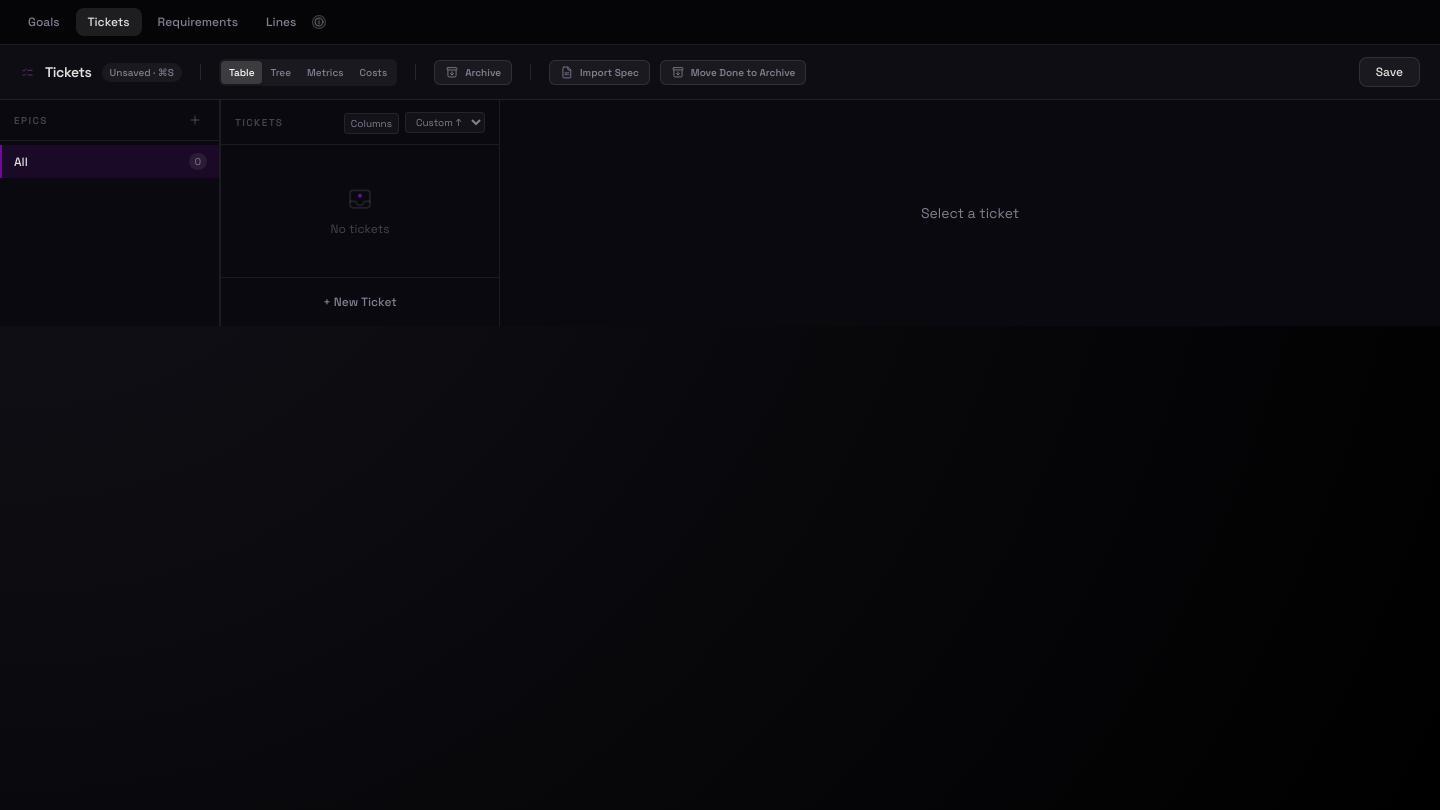
Test case: WorkView › leaving Tickets with unsaved PM changes › asks before leaving Tickets and stays put until the question is answered
The width and height of the screenshot is (1440, 810).
Click the tab "Goals": (44, 22) [16,8,72,36]
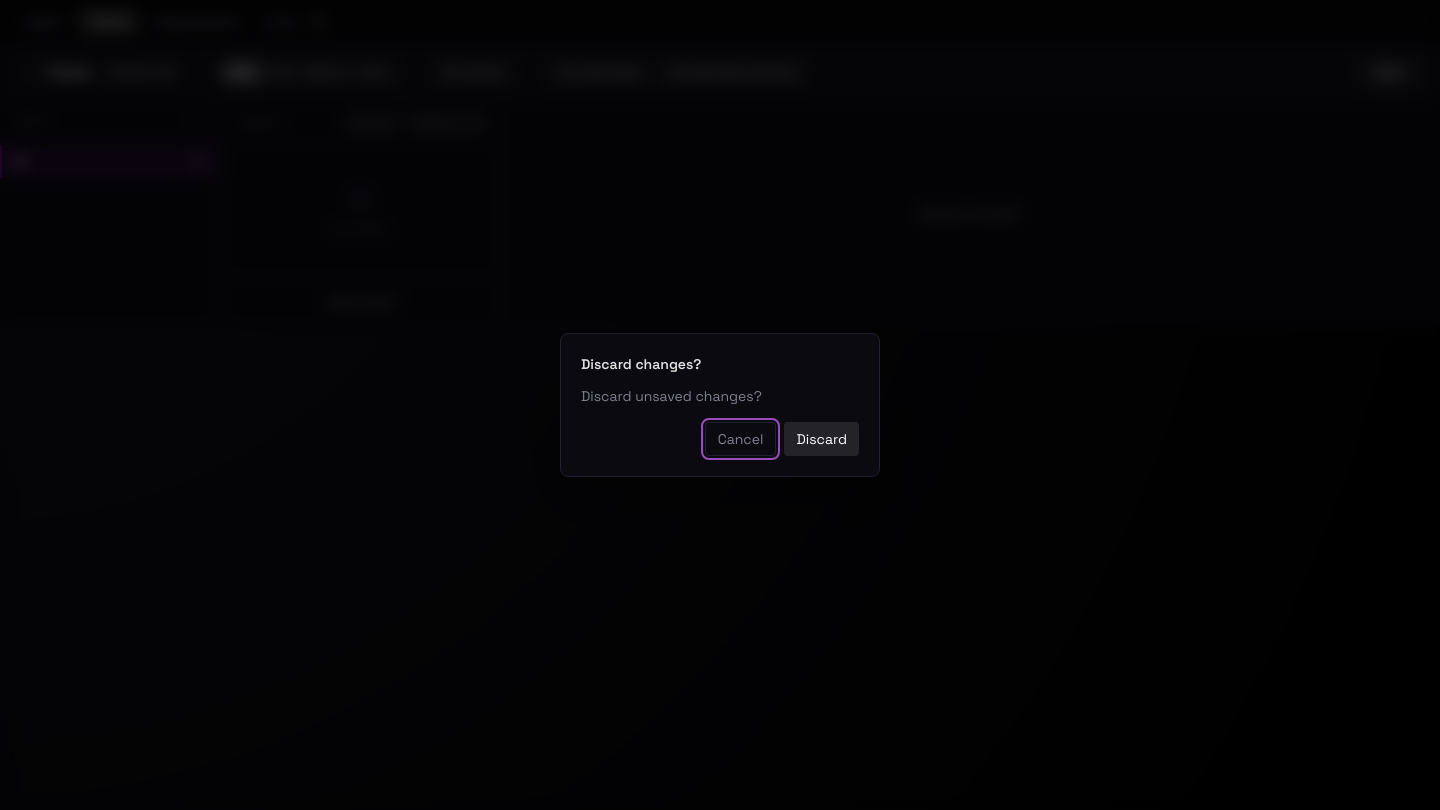
Expected: the dialog "Discard changes?" is shown, [560,333,880,477]
